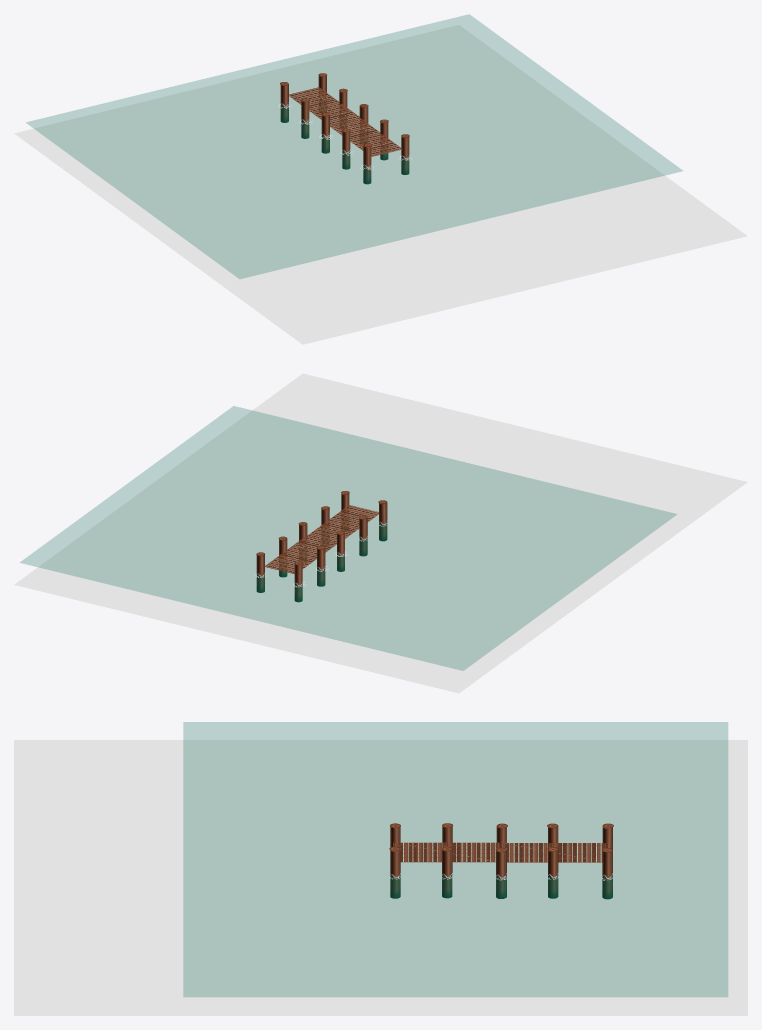
The model's file is pier.obj.
The picture shows the model from 3 angles, top to bottom: view 1: azimuth 30°, elevation 25°; view 2: azimuth 150°, elevation 25°; view 3: azimuth 270°, elevation 25°; orthographic projection. The views are drawn at different scales.
Parts seen in each view (by area): view 1: Mesh13 Model, Mesh14 Model, Mesh12 Model; view 2: Mesh13 Model, Mesh14 Model, Mesh12 Model; view 3: Mesh13 Model, Mesh14 Model, Mesh12 Model, Mesh2 Component_1_2 Model, Mesh7 Component_1_7 Model, Mesh4 Component_1_4 Model, Mesh6 Component_1_6 Model.
Boxes of the visible parts, x1,y1,x2,y2 form: Mesh13 Model: (14,25,747,344); Mesh14 Model: (26,14,682,278); Mesh12 Model: (289,87,402,156); Mesh13 Model: (14,373,747,693); Mesh14 Model: (20,406,676,670); Mesh12 Model: (264,505,378,573); Mesh13 Model: (14,740,747,1015); Mesh14 Model: (183,722,727,996); Mesh12 Model: (393,842,608,862); Mesh2 Component_1_2 Model: (390,849,400,898); Mesh7 Component_1_7 Model: (548,850,558,898); Mesh4 Component_1_4 Model: (442,850,452,898); Mesh6 Component_1_6 Model: (602,851,612,899).
Bounding box in the file's own units: 33.22 × 2.68 × 37.13.
